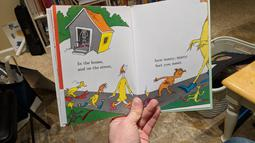text block: (75, 58, 115, 73), (148, 53, 190, 67)
